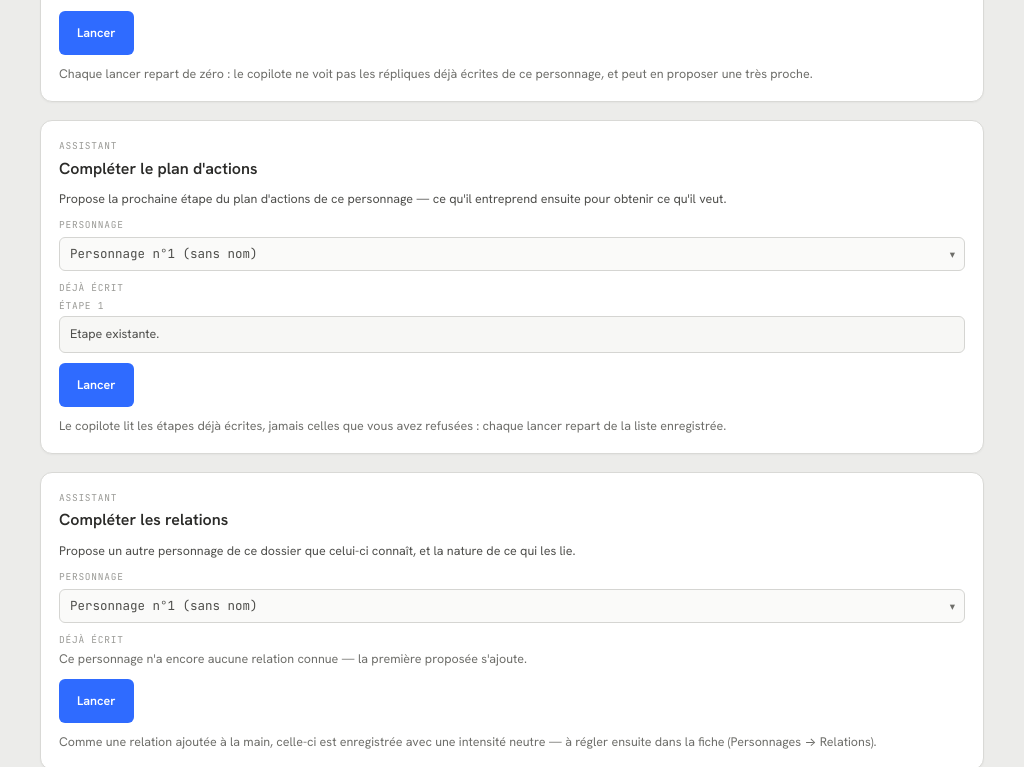
planActions - aucun numero sur la PROPOSITION › l'eyebrow de la proposition ne porte aucun chiffre, contrairement au bloc DEJA ECRIT
The width and height of the screenshot is (1024, 767).
(page scrolled)
Click the button "Lancer" below "Etape existante." at (96, 385), box 59,363 -> 134,407
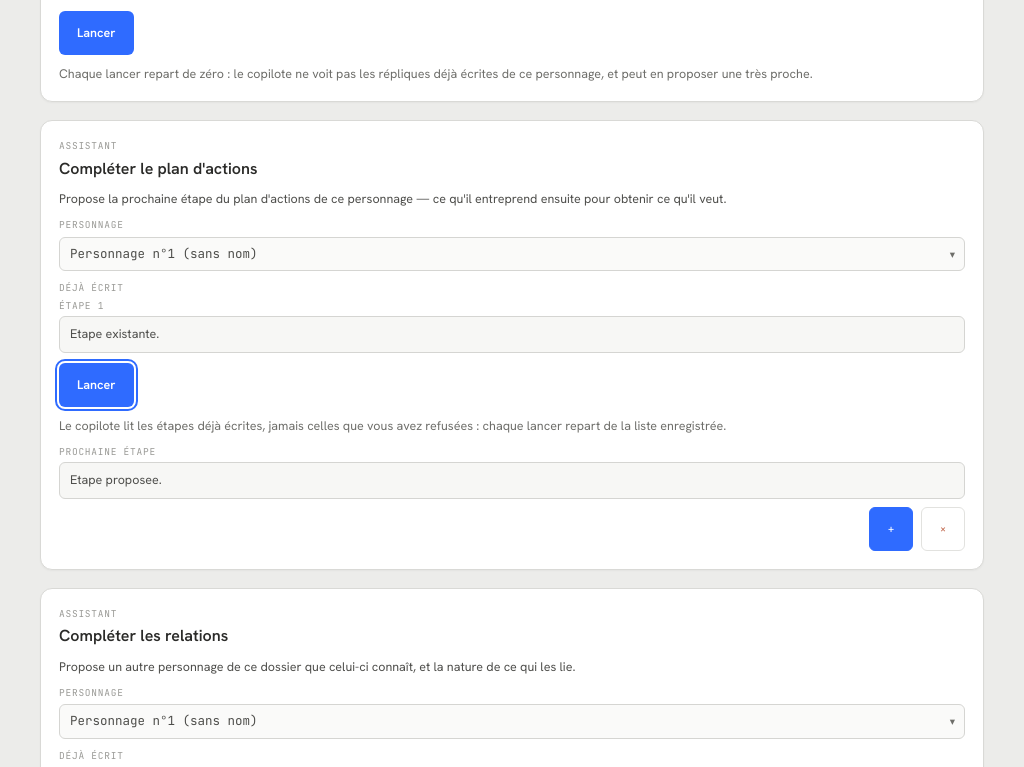
Result: the button named "Accepter la proposition" is shown at 869,507 -> 913,551
Result: the text "PROCHAINE ÉTAPE" is shown at 59,445 -> 156,458
Result: the text "ÉTAPE 1" is shown once at 59,299 -> 104,312
